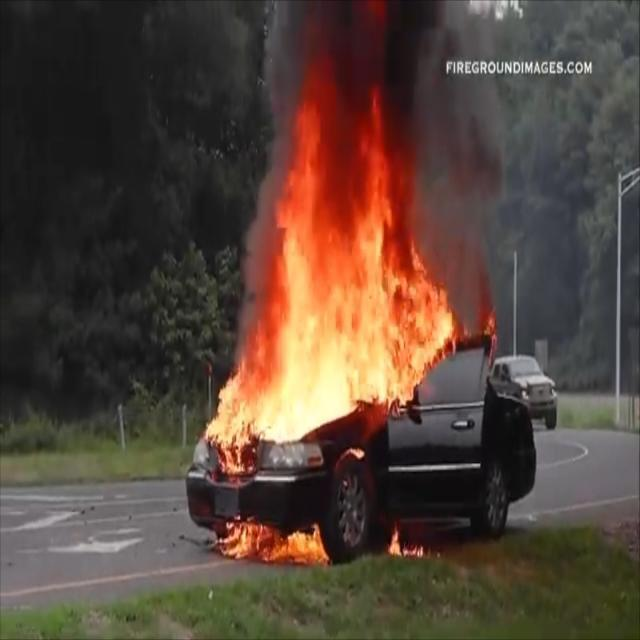fire: (198, 11, 498, 468), (215, 496, 430, 564)
